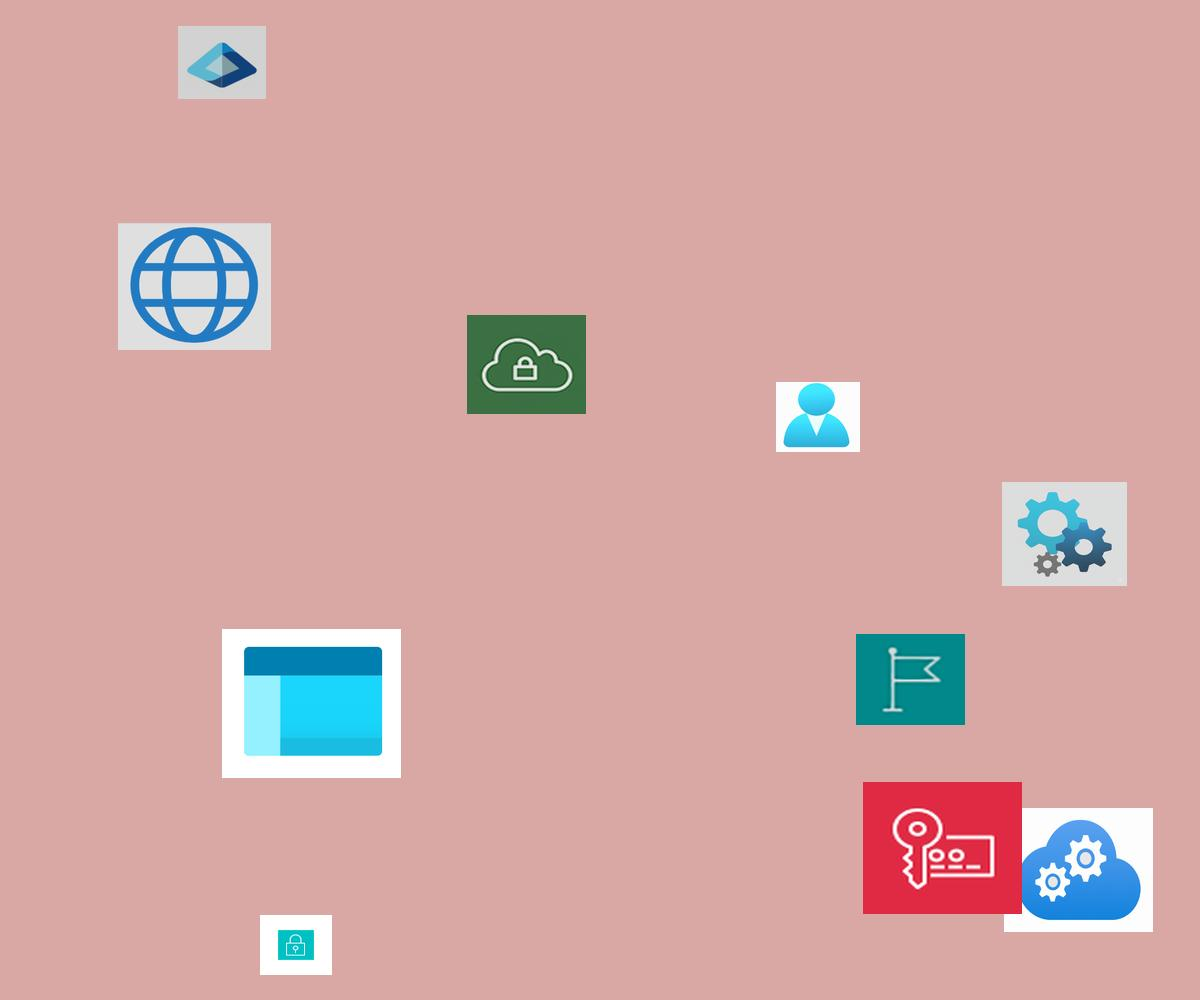AWS-Key-Management-Service: (863, 782, 1022, 914)
AWS-Private-subnet: (260, 915, 332, 975)
AWS-Private_vpc: (467, 315, 586, 414)
AWS-Region: (856, 634, 965, 725)
Azure_api: (1002, 482, 1127, 586)
Azure_cloud_services: (1004, 808, 1153, 932)
Azure_http: (118, 223, 271, 350)
Azure_management-portal: (222, 629, 401, 778)
Azure_microsoft_entra: (178, 26, 266, 99)
Azure_users: (776, 382, 860, 452)
